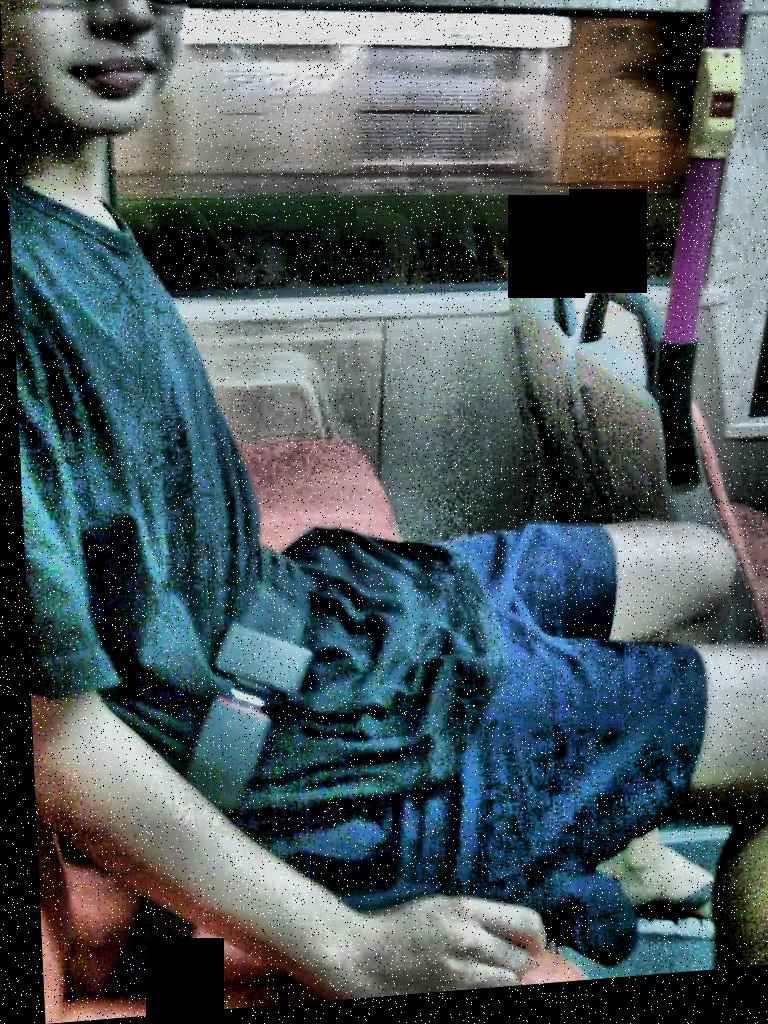seatbelt: (158, 464, 333, 840)
